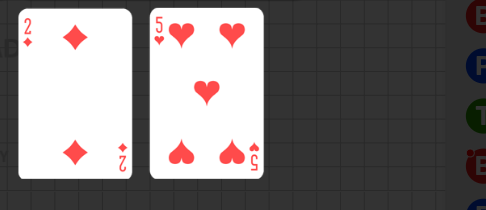2D: (116, 140, 128, 173)
5H: (247, 140, 260, 172)
